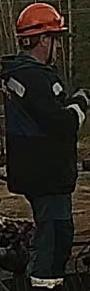gloves: (73, 85, 90, 114)
helmet: (14, 2, 68, 37)
vest: (0, 55, 78, 195)
